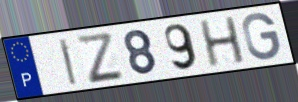8: (123, 28, 159, 77)
9: (163, 22, 199, 72)
G: (240, 11, 283, 62)
H: (197, 15, 248, 69)
I: (57, 36, 79, 87)
Z: (73, 31, 127, 86)
